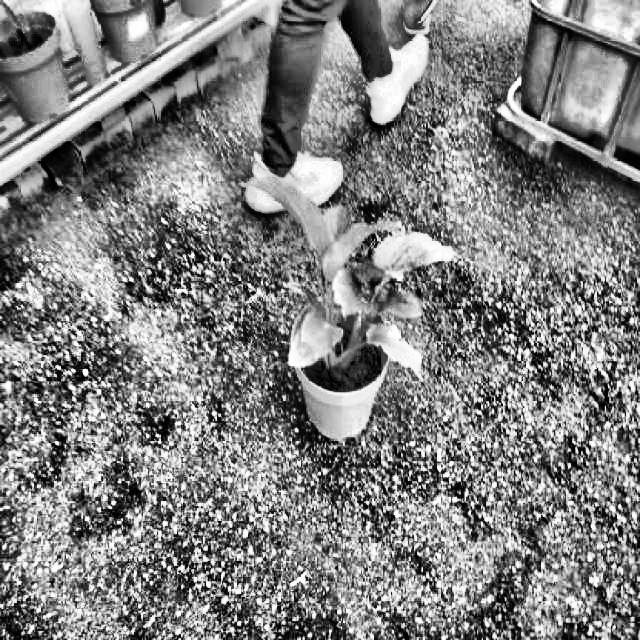plants: (238, 172, 454, 386)
